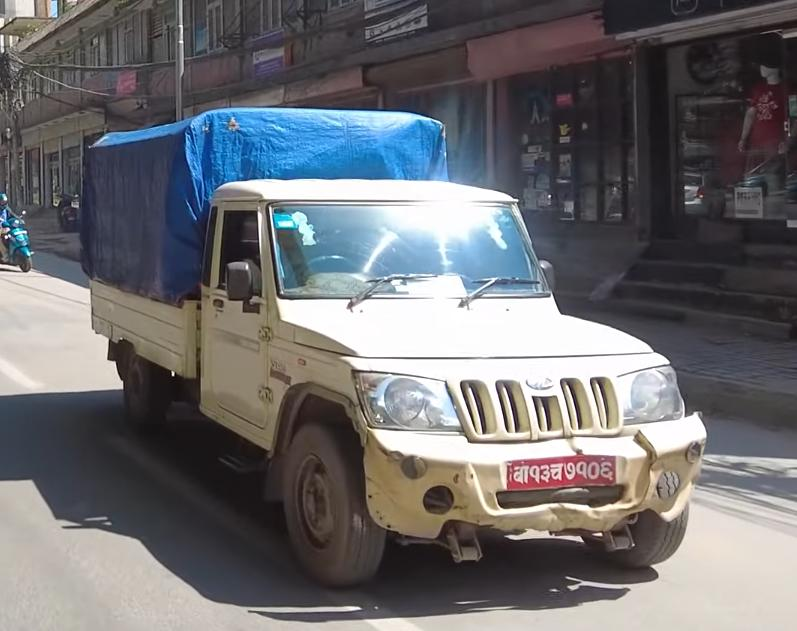scooter: (0, 172, 39, 281)
transport_vehicle: (80, 97, 698, 587)
